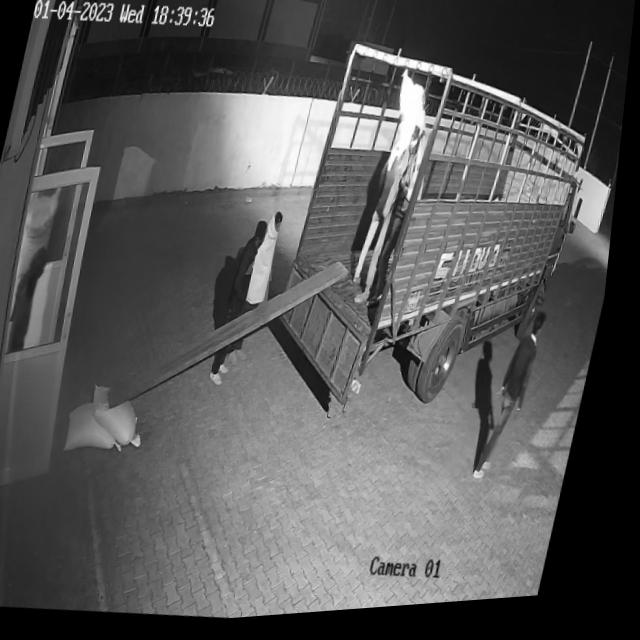sack: (89, 380, 162, 454), (16, 185, 66, 283), (388, 75, 440, 167), (70, 399, 140, 459)
